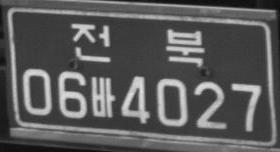0: (155, 77, 187, 127), (22, 67, 52, 116)
2: (193, 79, 227, 130)
4: (120, 75, 150, 124)
6: (57, 70, 87, 119)
7: (230, 82, 262, 130)
바: (90, 76, 116, 118)
전북_D: (70, 21, 205, 67)
